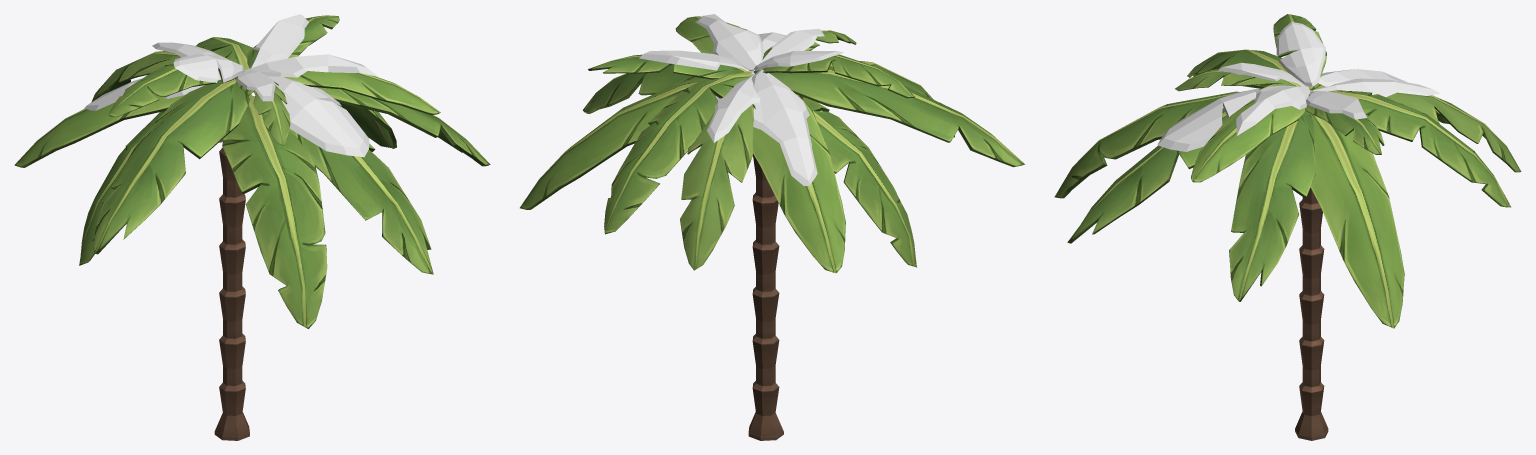
The model's file is yazasu2_snow.FBX.
The picture shows the model from 3 angles, left to right: view 1: azimuth 30°, elevation 25°; view 2: azimuth 150°, elevation 25°; view 3: azimuth 270°, elevation 25°; orthographic projection. The views are drawn at different scales.
Parts seen in each view (by area): view 1: Plane089, Object012; view 2: Plane089, Object012; view 3: Plane089, Object012.
Part boxes in pixels (x1=…): Plane089: x1=14, y1=15, x2=490, y2=440; Object012: x1=84, y1=14, x2=378, y2=157; Plane089: x1=520, y1=16, x2=1025, y2=440; Object012: x1=639, y1=14, x2=843, y2=185; Plane089: x1=1054, y1=14, x2=1521, y2=440; Object012: x1=1157, y1=21, x2=1439, y2=151.
Size of the model in its own units: 177 by 158 by 176.
